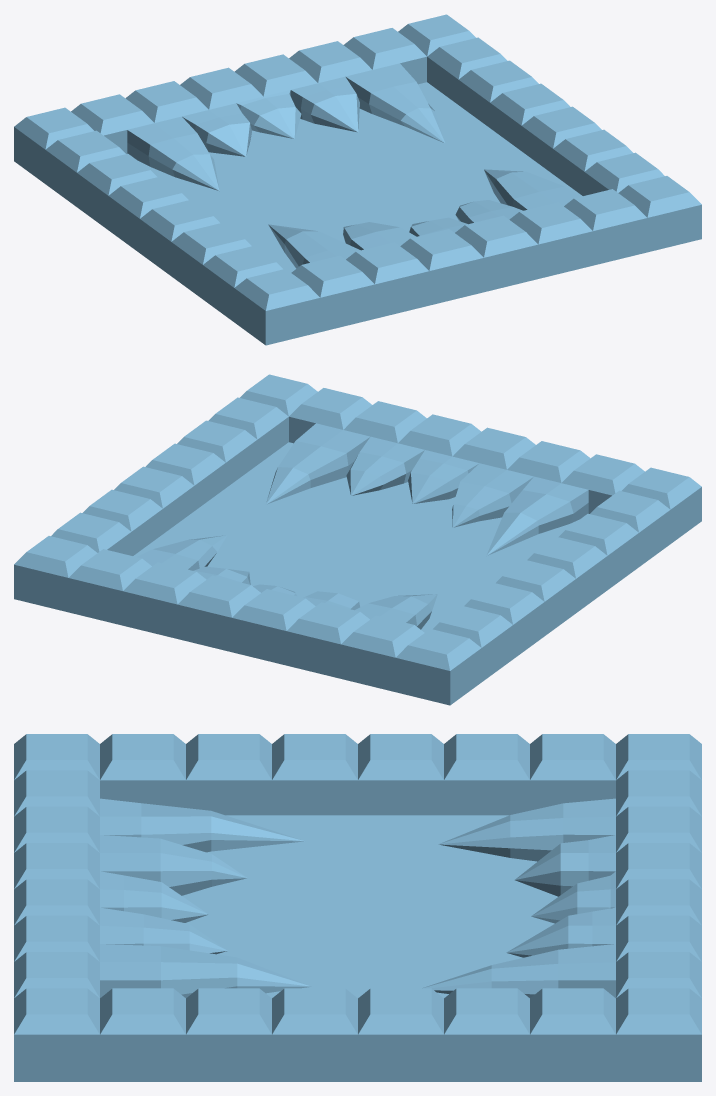
The model's file is mouth.fbx.
The picture shows the model from 3 angles, top to bottom: view 1: azimuth 30°, elevation 25°; view 2: azimuth 150°, elevation 25°; view 3: azimuth 270°, elevation 25°; orthographic projection. The views are drawn at different scales.
Visible parts, largest first — view 1: mouth; view 2: mouth; view 3: mouth.
Part boxes in pixels (x1,y1,x2,y2): mouth: (14,14,701,345); mouth: (14,374,701,705); mouth: (14,734,701,1081).
Size of the model in its own units: 300 by 30 by 300.
